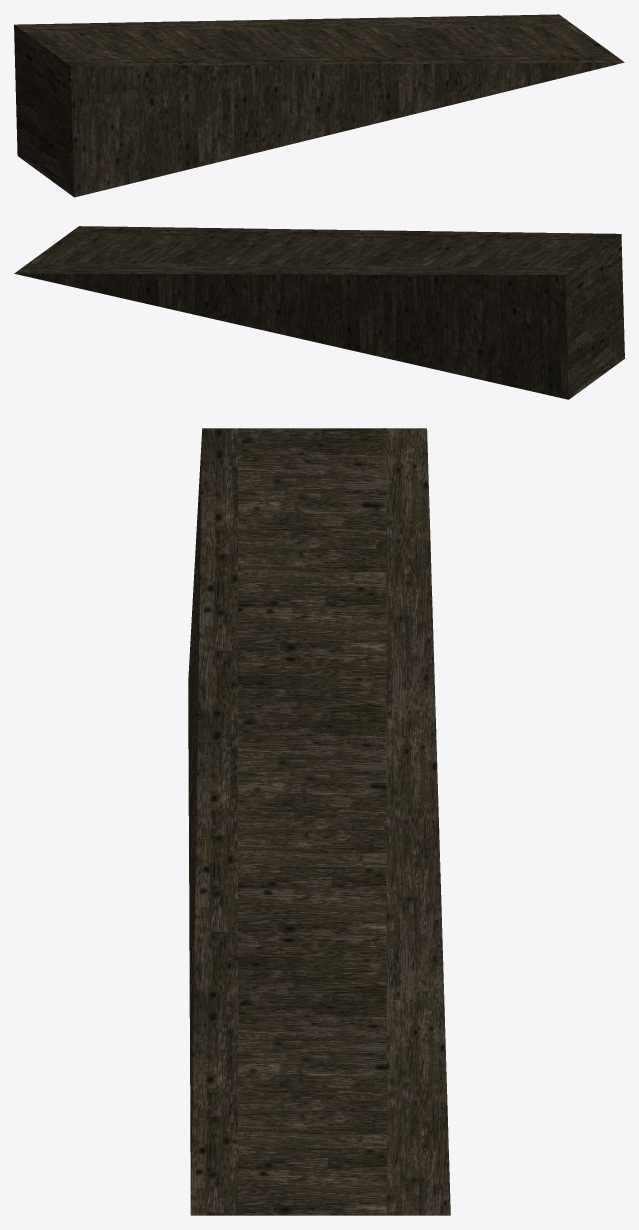
The model's file is LongPlankUp_Down.fbx.
3 renders of one model, top to bottom at view 1: azimuth 30°, elevation 25°; view 2: azimuth 150°, elevation 25°; view 3: azimuth 270°, elevation 25°, orthographic. The views are drawn at different scales.
Parts seen in each view (by area): view 1: PrismaPanjang; view 2: PrismaPanjang; view 3: PrismaPanjang.
Boxes of the visible parts, box(x1,y1,x2,y2) form: PrismaPanjang: box(14, 14, 624, 197); PrismaPanjang: box(14, 226, 624, 399); PrismaPanjang: box(188, 428, 450, 1215).
Bounding box in the file's own units: 4480 × 1000 × 934.
